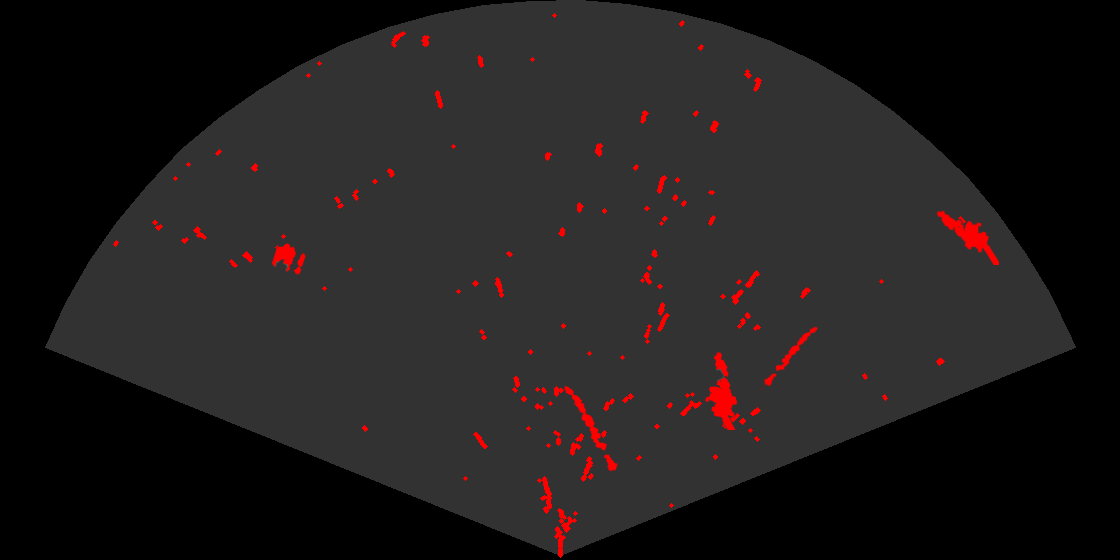ball: (270, 242, 307, 276)
chain: (563, 384, 619, 473), (758, 325, 819, 391)
frogman: (935, 209, 999, 265), (703, 351, 739, 430)
